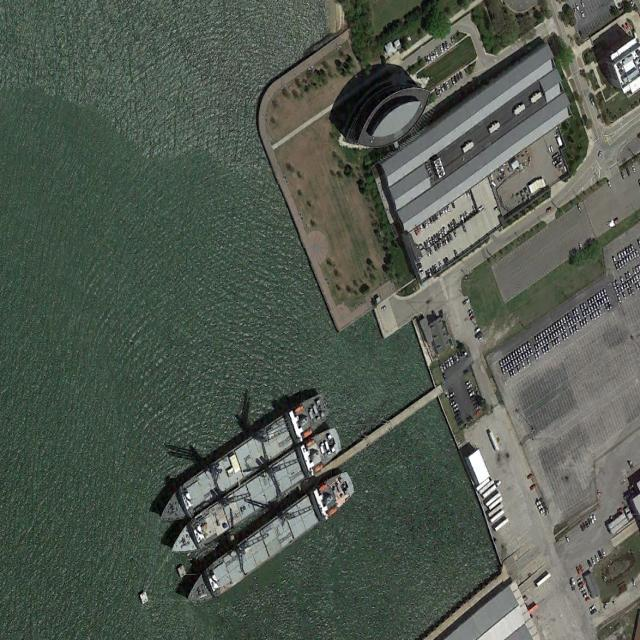Cargo: (179, 464, 360, 616), (153, 388, 331, 533), (165, 422, 345, 565)
